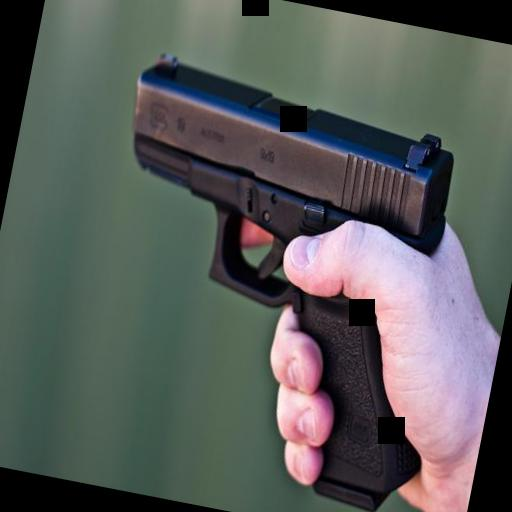Handgun: (53, 43, 498, 512)
